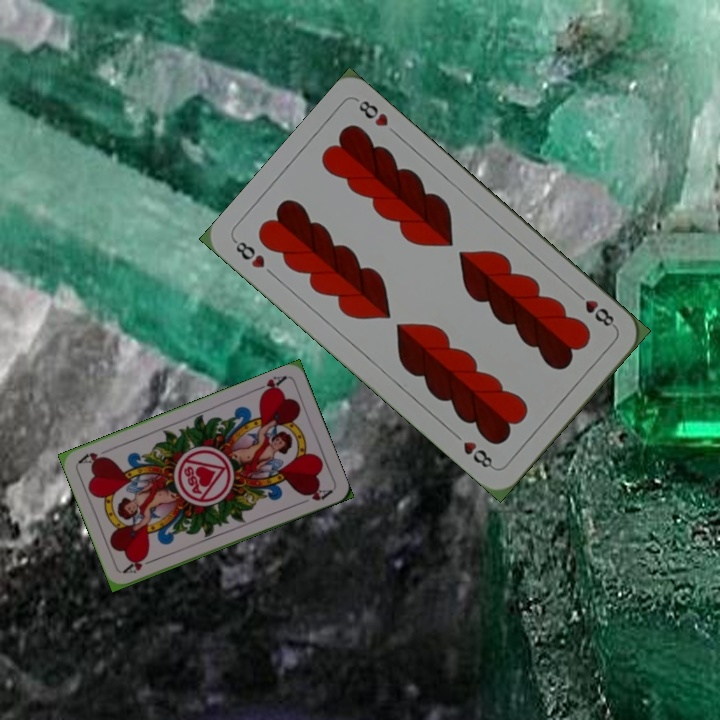H8: (570, 287, 619, 331), (230, 236, 268, 271)
HA: (251, 371, 290, 399), (119, 553, 159, 576)
